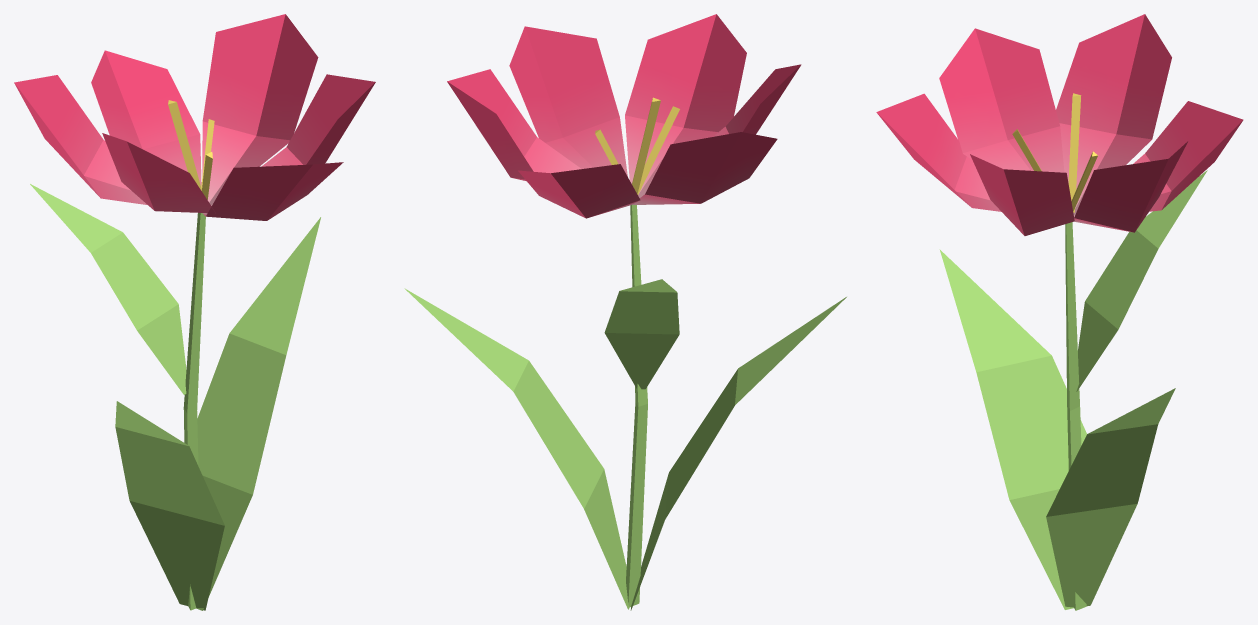
File: Flower_f_TwoS_11.fbx
The picture shows the model from 3 angles, left to right: view 1: azimuth 30°, elevation 25°; view 2: azimuth 150°, elevation 25°; view 3: azimuth 270°, elevation 25°; orthographic projection. The views are drawn at different scales.
Visible parts, largest first — view 1: Flower_f_TwoS_11; view 2: Flower_f_TwoS_11; view 3: Flower_f_TwoS_11.
Part boxes in pixels (left/top/right/bottom): Flower_f_TwoS_11: left=14, top=14, right=375, bottom=610; Flower_f_TwoS_11: left=404, top=14, right=846, bottom=610; Flower_f_TwoS_11: left=876, top=14, right=1243, bottom=610.
Bounding box in the file's own units: 28.93 × 45.39 × 28.82.
